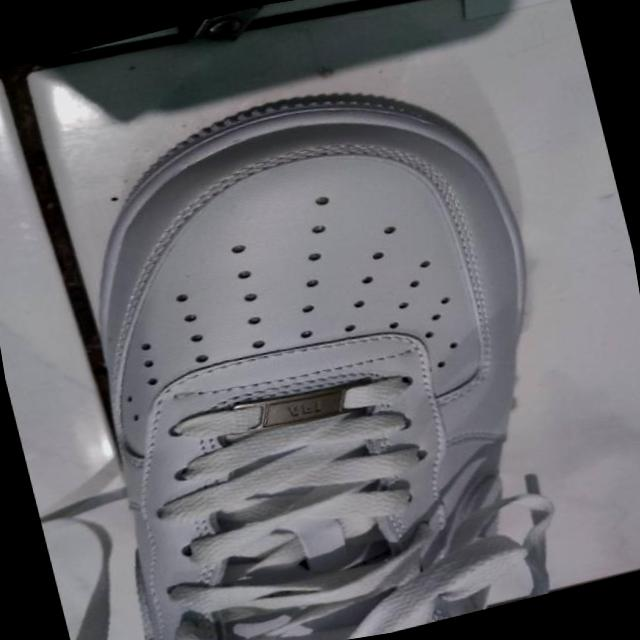nike_fake_airforce: (19, 43, 616, 640)
